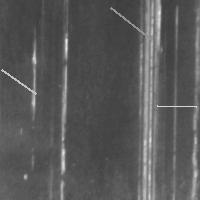scratches: (133, 1, 163, 199), (56, 26, 73, 199), (105, 2, 156, 44), (0, 65, 41, 99), (26, 32, 41, 124), (152, 100, 200, 111)
